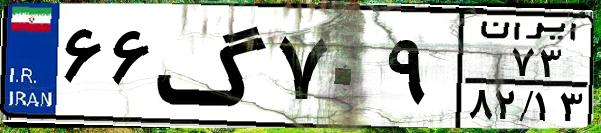0: (330, 28, 385, 110)
1: (535, 70, 560, 125)
2: (495, 70, 520, 125)
3: (560, 70, 590, 125), (537, 27, 568, 80)
6: (57, 26, 110, 100), (110, 28, 156, 98)
7: (270, 28, 330, 110), (508, 27, 537, 80)
8: (470, 70, 495, 125)
9: (385, 28, 445, 110)
گ: (156, 12, 270, 120)
